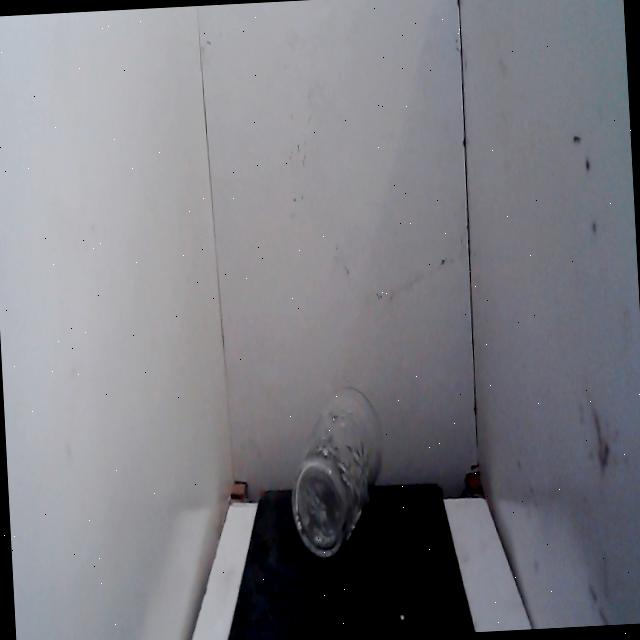glass: (278, 364, 399, 572)
